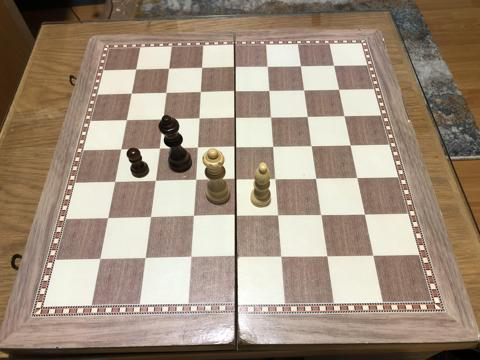xcorner: (191, 142, 204, 155), (196, 63, 209, 75), (161, 87, 173, 100), (229, 142, 242, 154), (350, 172, 363, 184), (270, 173, 282, 186), (144, 213, 157, 225), (184, 253, 197, 265), (328, 60, 340, 72), (295, 60, 307, 72), (262, 61, 274, 73), (229, 62, 241, 74), (164, 63, 176, 75), (131, 64, 143, 76), (333, 84, 345, 96), (298, 84, 310, 96), (264, 85, 276, 97), (229, 86, 241, 98), (195, 87, 207, 99), (126, 88, 138, 100), (338, 110, 350, 122), (302, 111, 314, 123), (266, 112, 278, 124), (229, 112, 241, 124), (193, 113, 205, 125), (157, 114, 169, 126), (121, 115, 133, 127), (344, 139, 356, 151), (306, 140, 318, 152), (268, 141, 280, 153), (153, 143, 165, 155), (115, 144, 127, 156), (310, 173, 322, 185), (230, 174, 242, 186), (189, 175, 201, 187), (149, 176, 161, 188), (109, 177, 121, 189), (358, 208, 370, 220), (315, 209, 327, 221), (272, 210, 284, 222), (230, 211, 242, 223), (187, 212, 199, 224), (102, 214, 114, 226), (366, 249, 378, 261), (321, 250, 333, 262), (275, 251, 287, 263), (230, 252, 242, 264), (139, 254, 151, 266), (94, 255, 106, 267)
